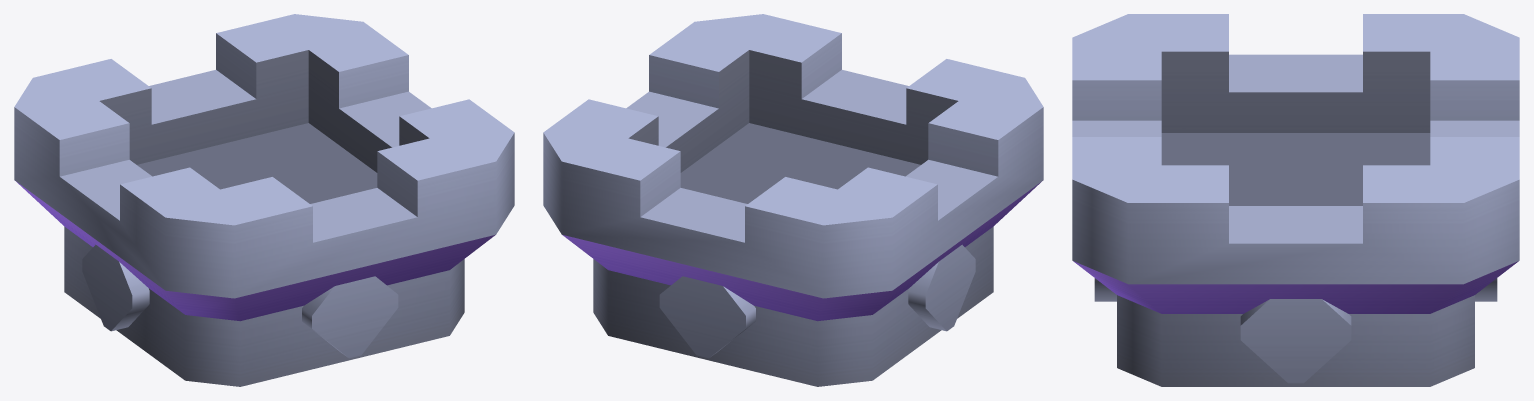
Rendered from tower-square-top-c.fbx.
3 renders of one model, left to right at view 1: azimuth 30°, elevation 25°; view 2: azimuth 150°, elevation 25°; view 3: azimuth 270°, elevation 25°, orthographic. The views are drawn at different scales.
Parts seen in each view (by area): view 1: tower-square-top-c; view 2: tower-square-top-c; view 3: tower-square-top-c.
Part boxes in pixels (left/top/right/bottom): tower-square-top-c: left=14, top=14, right=514, bottom=386; tower-square-top-c: left=543, top=14, right=1043, bottom=386; tower-square-top-c: left=1072, top=14, right=1519, bottom=386.
Bounding box in the file's own units: 100 × 50 × 100.
